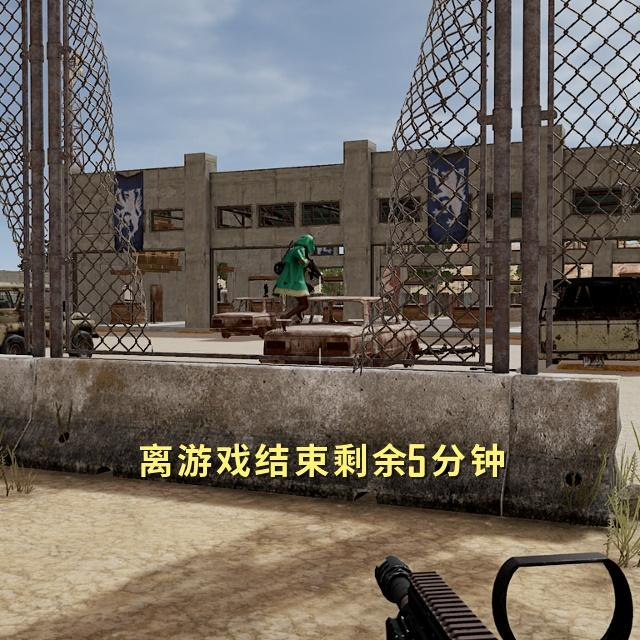head: (293, 230, 320, 257)
people: (269, 226, 327, 332)
